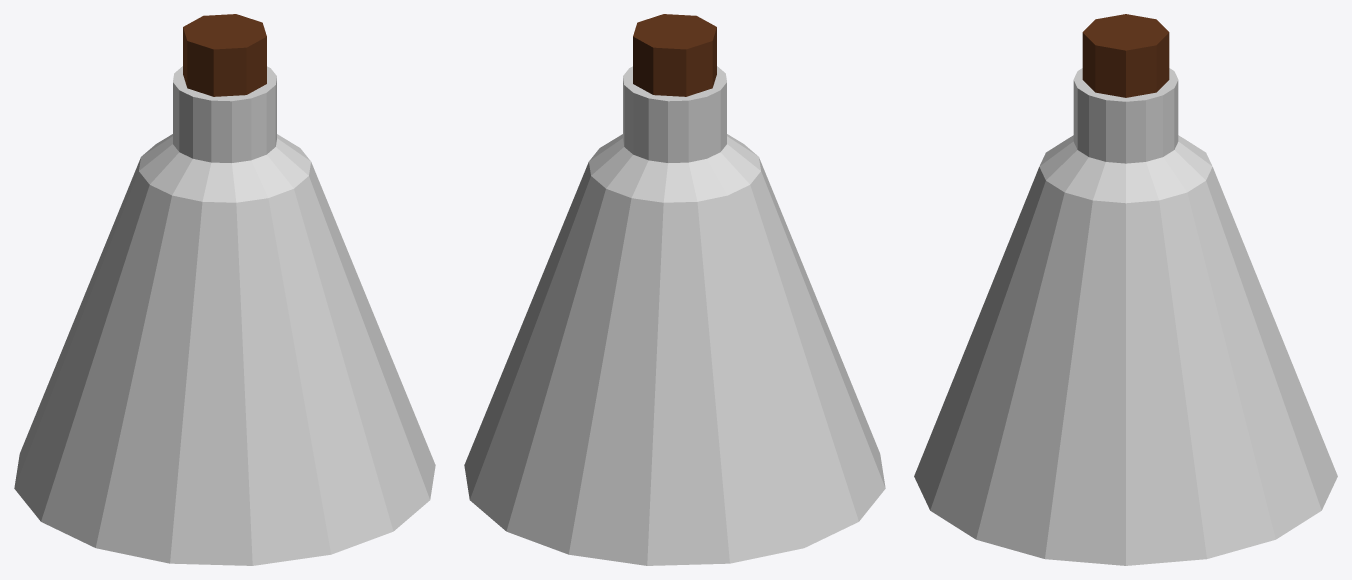
File: potion4.glb
The picture shows the model from 3 angles, left to right: view 1: azimuth 30°, elevation 25°; view 2: azimuth 150°, elevation 25°; view 3: azimuth 270°, elevation 25°; orthographic projection.
Visible parts, largest first — view 1: Cylinder.007, Cylinder.008; view 2: Cylinder.007, Cylinder.008; view 3: Cylinder.007, Cylinder.008.
Part boxes in pixels (x1=…): Cylinder.007: x1=14, y1=66, x2=435, y2=565; Cylinder.008: x1=183, y1=14, x2=266, y2=96; Cylinder.007: x1=464, y1=66, x2=885, y2=565; Cylinder.008: x1=633, y1=14, x2=716, y2=96; Cylinder.007: x1=914, y1=68, x2=1337, y2=565; Cylinder.008: x1=1082, y1=14, x2=1169, y2=97.
Bounding box in the file's own units: 1.84 × 2.12 × 1.84.
